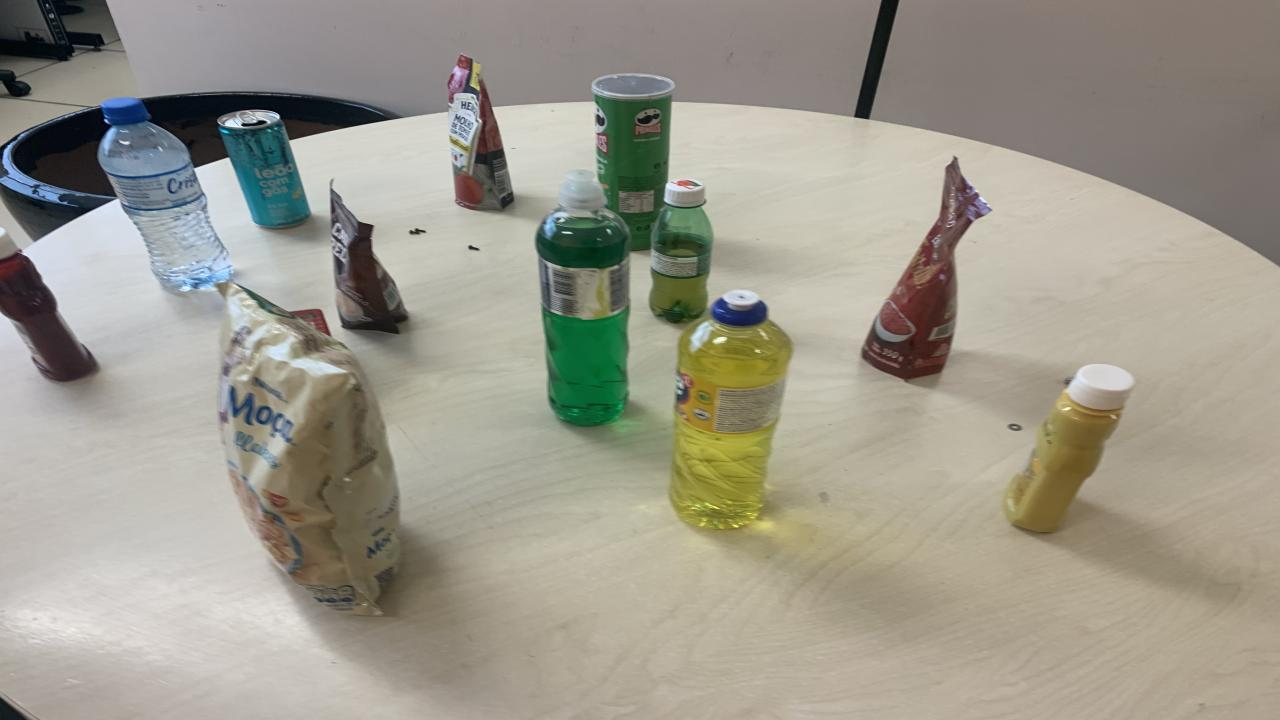Coffee-Pantry_Items: (330, 186, 408, 334)
Detergent-Cleanup_Items: (670, 291, 792, 529), (535, 171, 630, 426)
Flakes-Snacks: (218, 283, 400, 615)
Guarana-Drinks: (650, 180, 712, 322)
Ketchup-Pantry_Items: (0, 253, 98, 381)
Mustard-Pantry_Items: (1005, 364, 1135, 532)
Pringles-Snacks: (592, 73, 675, 249)
Tea-Drinks: (218, 109, 310, 229)
Tomato_Sauce-Pantry_Items: (862, 159, 990, 379), (448, 54, 515, 210)
Water_Bottle-Drinks: (98, 98, 232, 291)
